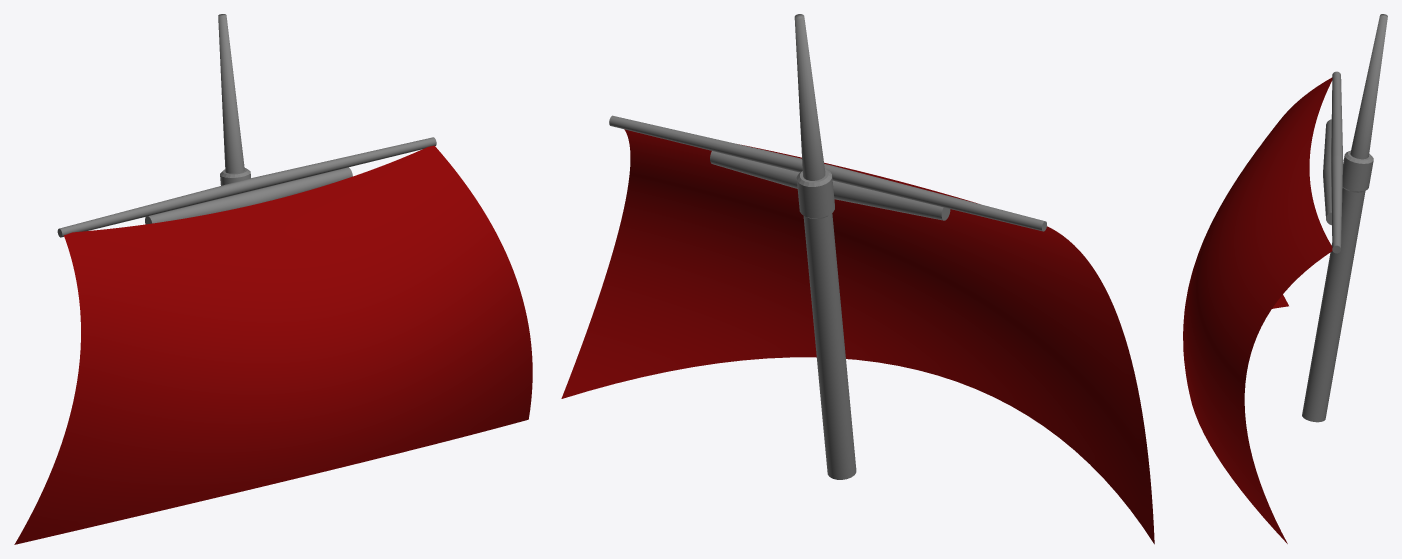
Rendered from MastBowTop.fbx.
3 renders of one model, left to right at view 1: azimuth 30°, elevation 25°; view 2: azimuth 150°, elevation 25°; view 3: azimuth 270°, elevation 25°, orthographic. The views are drawn at different scales.
Parts seen in each view (by area): view 1: Object012; view 2: Object012; view 3: Object012.
Boxes of the visible parts, x1,y1,x2,y2 form: Object012: (14, 14, 532, 544); Object012: (561, 14, 1154, 544); Object012: (1183, 14, 1387, 543).
Bounding box in the file's own units: 25.16 × 20.17 × 9.11.
